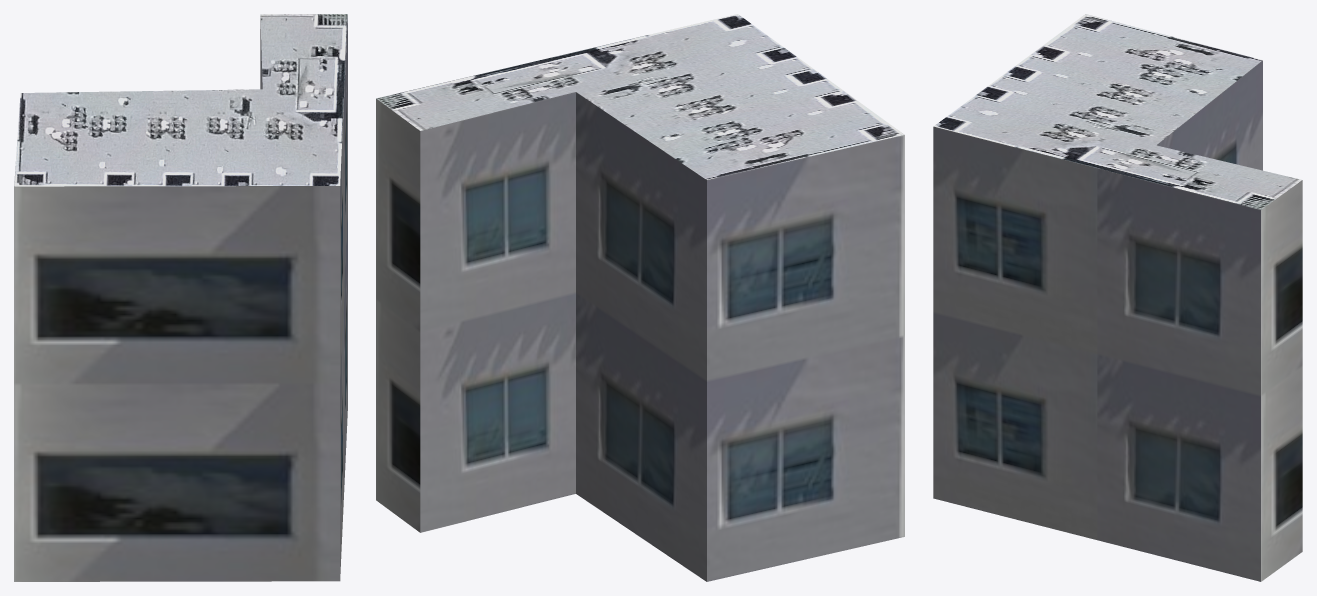
The model's file is ResTex__3380.fbx.
3 renders of one model, left to right at view 1: azimuth 30°, elevation 25°; view 2: azimuth 150°, elevation 25°; view 3: azimuth 270°, elevation 25°, orthographic. The views are drawn at different scales.
Visible parts, largest first — view 1: CityEngineMaterial_10_m, CityEngineMaterial_m; view 2: CityEngineMaterial_10_m, CityEngineMaterial_m; view 3: CityEngineMaterial_10_m, CityEngineMaterial_m.
Boxes of the visible parts, x1,y1,x2,y2 form: CityEngineMaterial_10_m: (14,16,347,581); CityEngineMaterial_m: (14,14,347,186); CityEngineMaterial_10_m: (376,92,904,581); CityEngineMaterial_m: (376,14,904,179); CityEngineMaterial_10_m: (933,60,1302,581); CityEngineMaterial_m: (934,14,1301,209).
Bounding box in the file's own units: 6.78 × 6 × 5.4.
2 materials, 2 textured.
